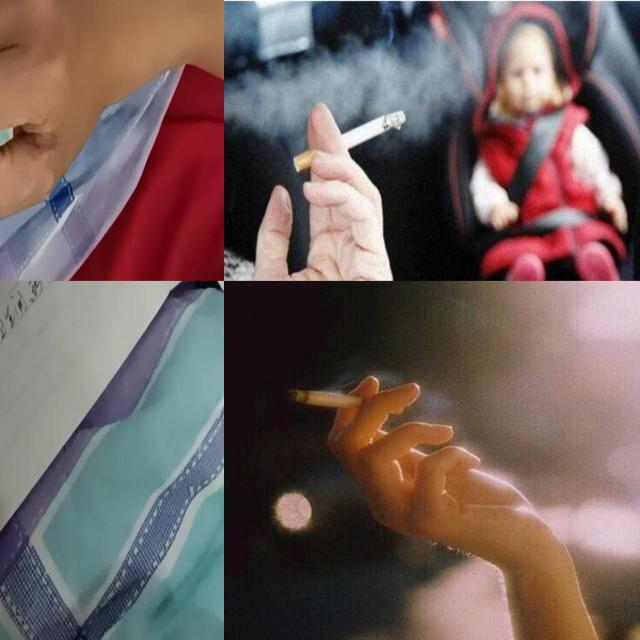smoking: (292, 110, 406, 173), (291, 386, 405, 416)
